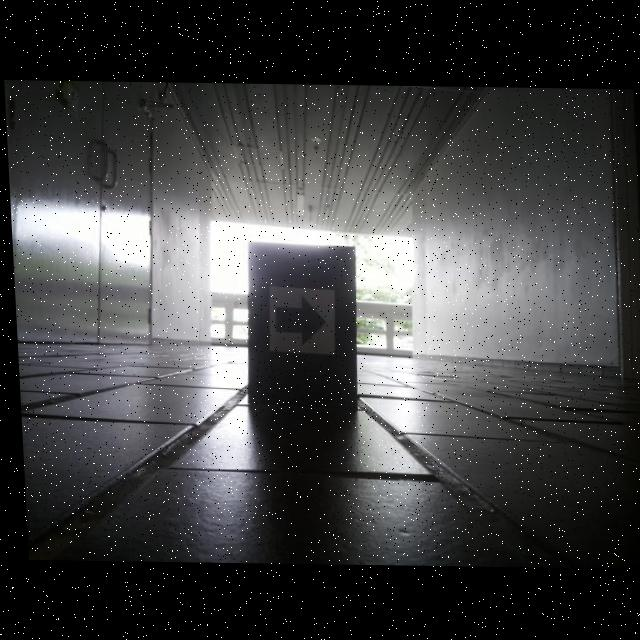RIGHT: (272, 295, 324, 346)
